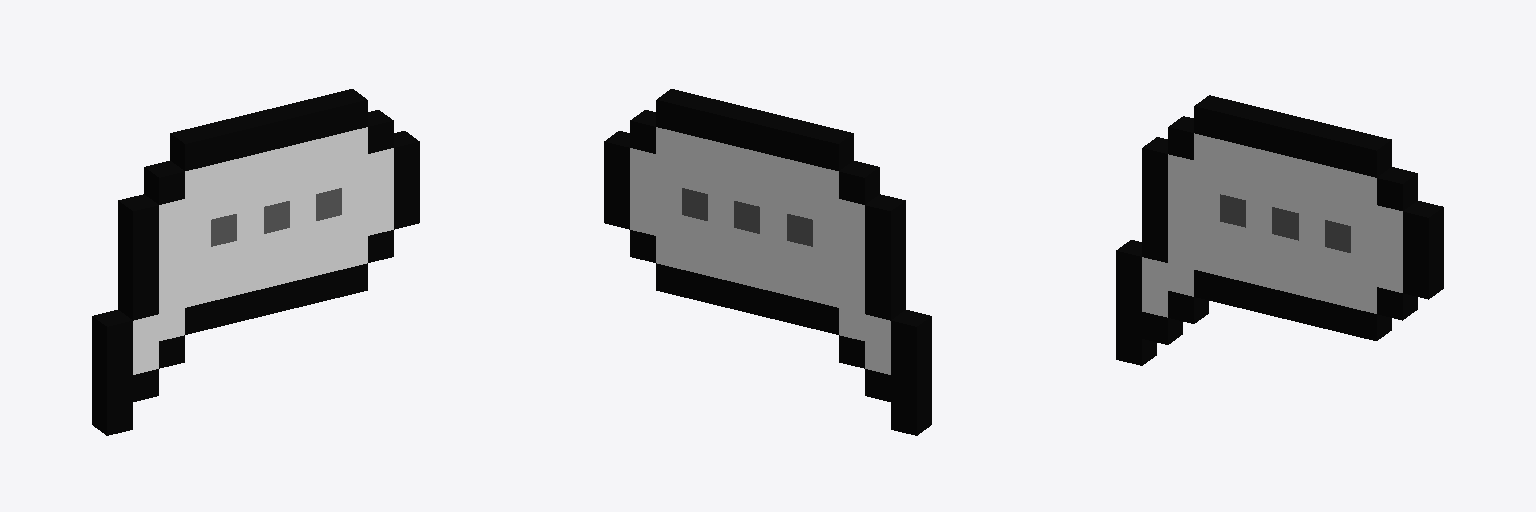
The picture shows the model from 3 angles: view 1: azimuth 30°, elevation 25°; view 2: azimuth 150°, elevation 25°; view 3: azimuth 330°, elevation 25°; orthographic projection.
Visible parts, largest first — view 1: object 1; view 2: object 1; view 3: object 1.
Part boxes in pixels (x1,y1,x2,y2): object 1: (92,89,419,435); object 1: (604,89,931,435); object 1: (1116,95,1443,365).
Bounding box in the file's own units: 1.2 × 1 × 0.1.
1 materials, 1 textured.